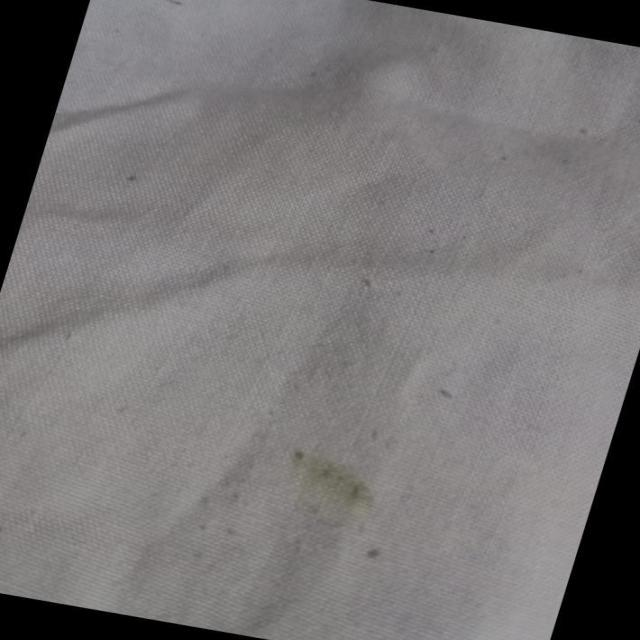stain: (234, 423, 428, 525)
